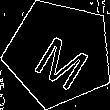M_NE: (26, 20, 92, 87)
